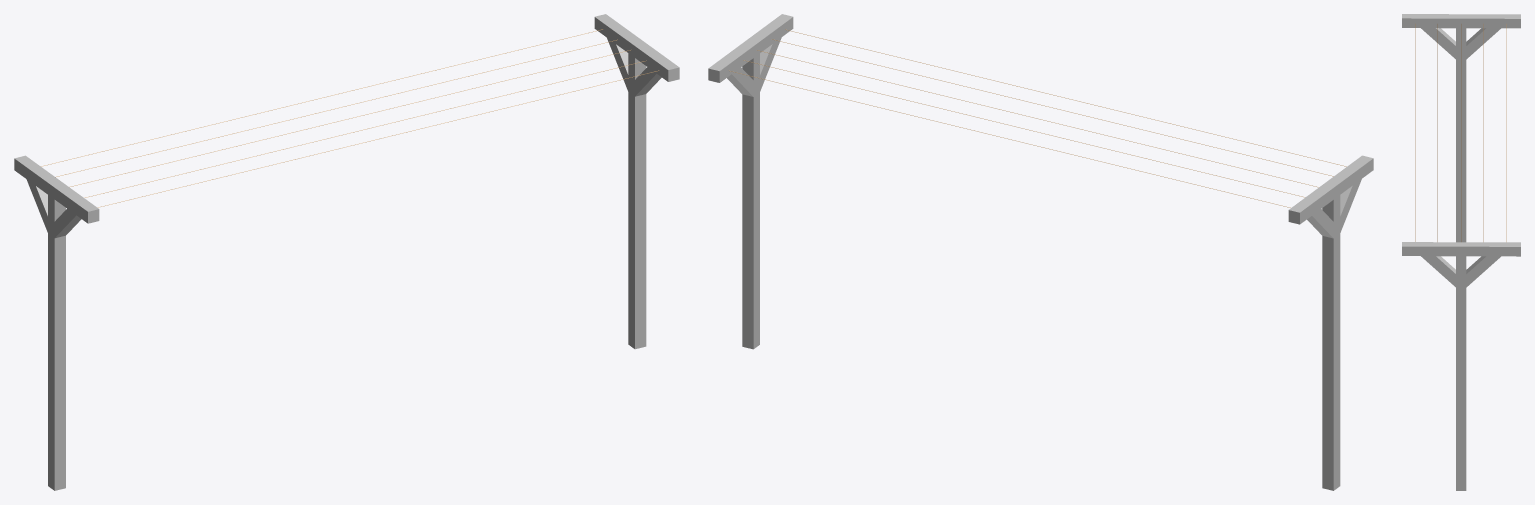
File: etendoirLinge.obj
3 views of the same model, side by side, from view 1: azimuth 30°, elevation 25°; view 2: azimuth 150°, elevation 25°; view 3: azimuth 270°, elevation 25° (orthographic). The views are drawn at different scales.
Visible parts, largest first — view 1: Right, Left, Strings; view 2: Left, Right, Strings; view 3: Right, Left, Strings.
Boxes of the visible parts, left/top/right/bottom form: Right: left=594, top=14, right=679, bottom=349; Left: left=14, top=155, right=99, bottom=490; Strings: left=41, top=29, right=659, bottom=207; Left: left=1288, top=155, right=1373, bottom=490; Right: left=708, top=14, right=793, bottom=349; Strings: left=729, top=29, right=1346, bottom=207; Right: left=1402, top=242, right=1520, bottom=490; Left: left=1402, top=14, right=1520, bottom=242; Strings: left=1415, top=24, right=1506, bottom=241.
Bounding box in the file's own units: 417 × 204 × 90.08.
